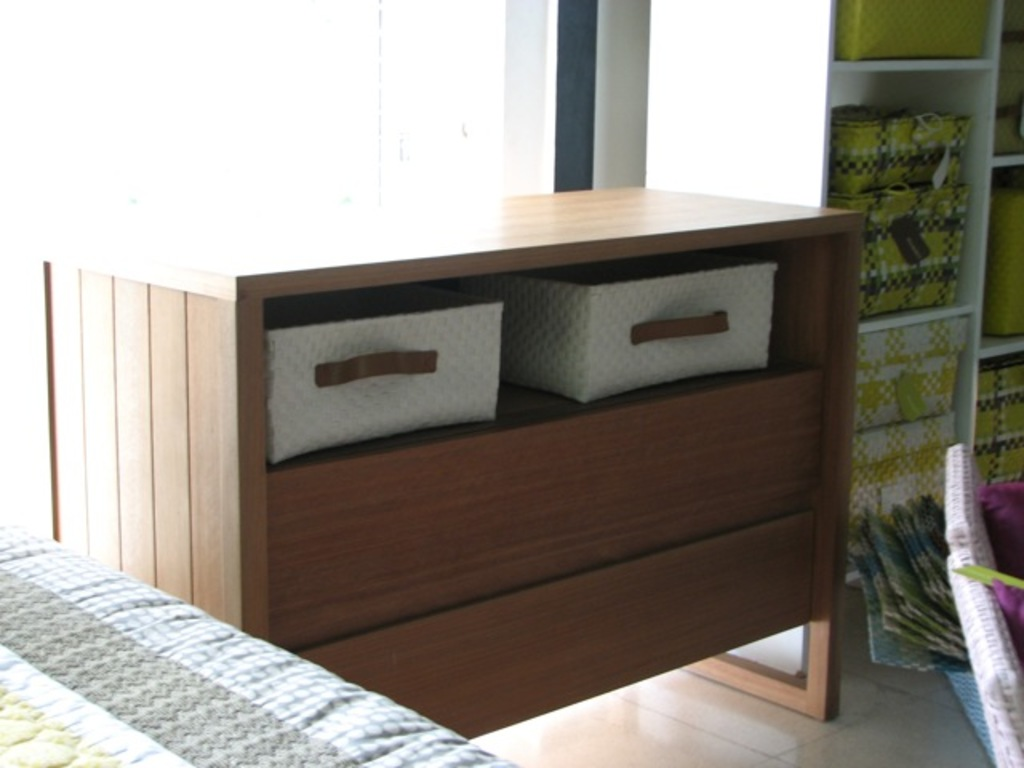cabinet door: (276, 446, 819, 549), (286, 560, 799, 637), (269, 314, 504, 420), (580, 275, 777, 371)
handle: (294, 346, 442, 388), (626, 318, 733, 350)
